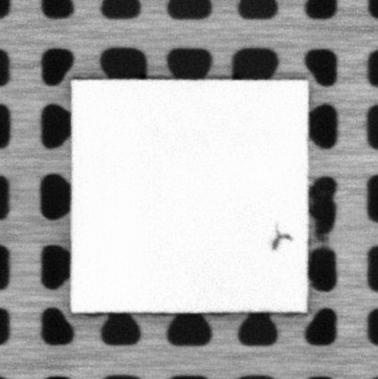DIE_INK: (270, 223, 295, 251)
